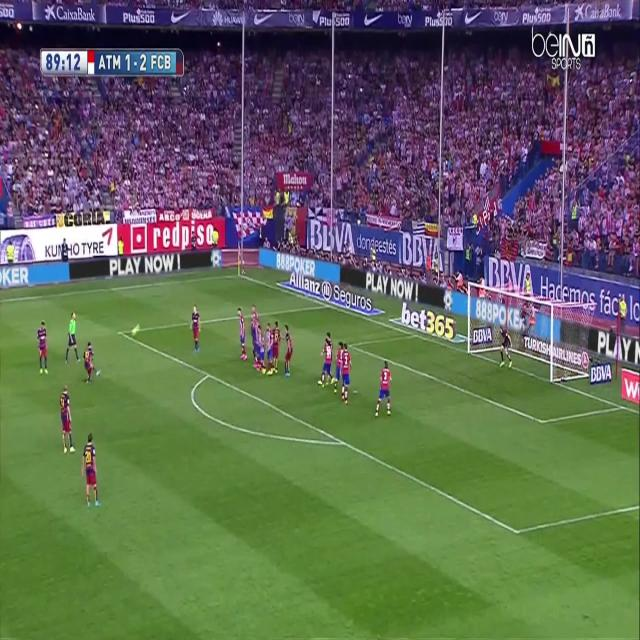Ball: (129, 321, 140, 338)
Goalkeeper: (497, 324, 513, 372)
Player: (80, 432, 101, 512), (374, 358, 395, 425), (58, 384, 76, 456), (81, 340, 101, 389), (34, 318, 50, 378), (317, 338, 333, 392), (331, 338, 344, 396), (189, 303, 203, 354), (341, 342, 351, 410), (284, 324, 296, 380), (273, 318, 284, 375), (237, 305, 247, 367), (265, 321, 274, 376)
Referee: (64, 311, 81, 369)
